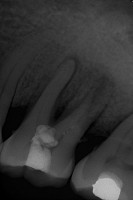Dental Caries: (51, 54, 115, 124)
